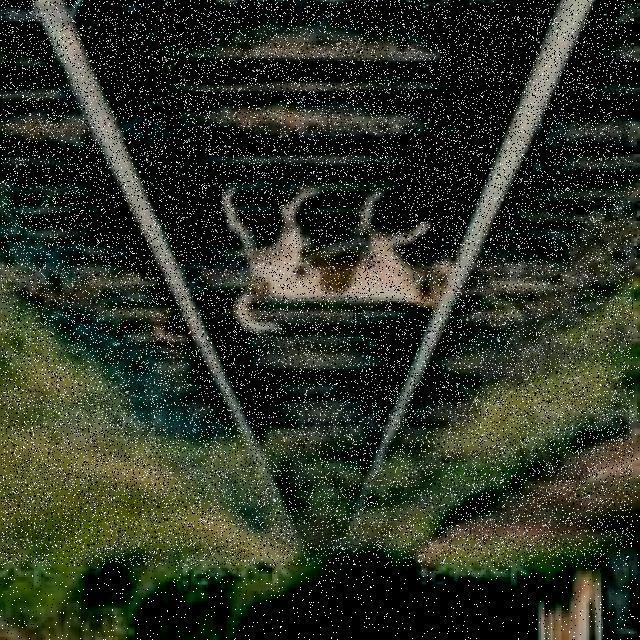danger: (208, 186, 455, 309)
rail: (1, 0, 633, 566)
